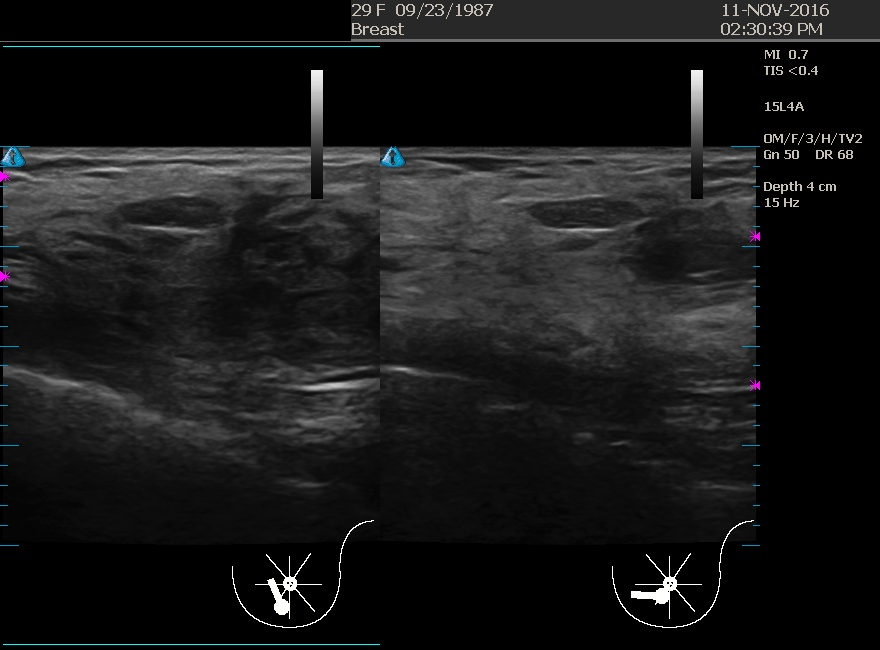BIRADS_3: (44, 185, 244, 385), (489, 187, 689, 387)
